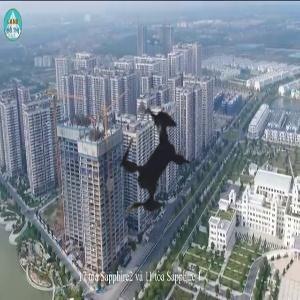drone: (65, 79, 241, 255)
